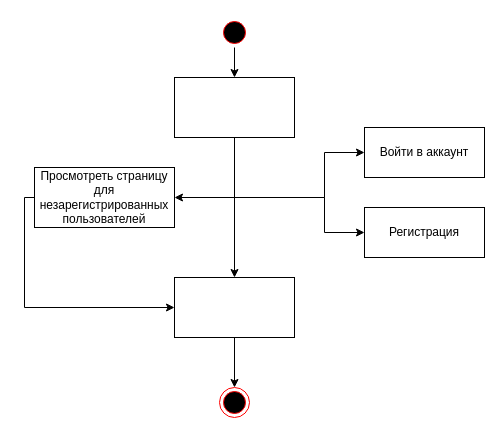
Image size: 502x435. Some labels were removed from this diagram. Each missing label, with the centre of its shape:
"Выйти из приложения" goes at point (234, 307).
"Запуск приложения" goes at point (234, 107).
